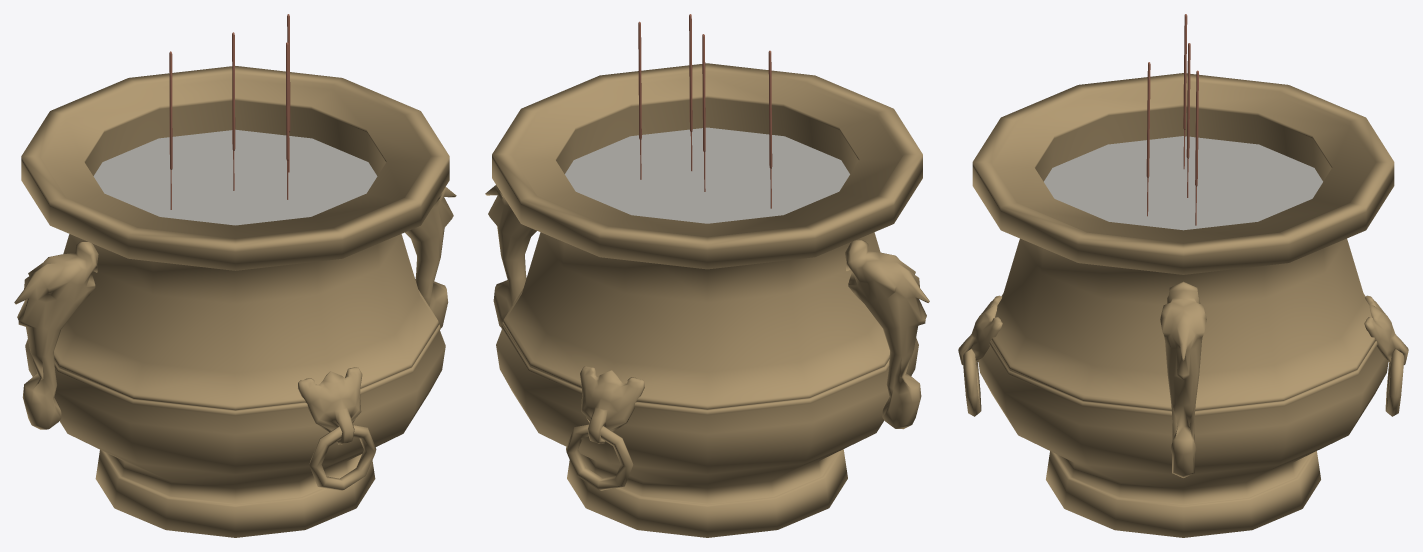
Rendered from z1_vasija.obj.
3 renders of one model, left to right at view 1: azimuth 30°, elevation 25°; view 2: azimuth 150°, elevation 25°; view 3: azimuth 270°, elevation 25°, orthographic. The views are drawn at different scales.
Visible parts, largest first — view 1: dragon_head_low; view 2: dragon_head_low; view 3: dragon_head_low.
Boxes of the visible parts, x1,y1,x2,y2 form: dragon_head_low: (14, 14, 456, 537); dragon_head_low: (485, 14, 929, 537); dragon_head_low: (958, 14, 1408, 537).
Bounding box in the file's own units: 0.187 × 0.18 × 0.1677.
9 materials, 9 textured.
